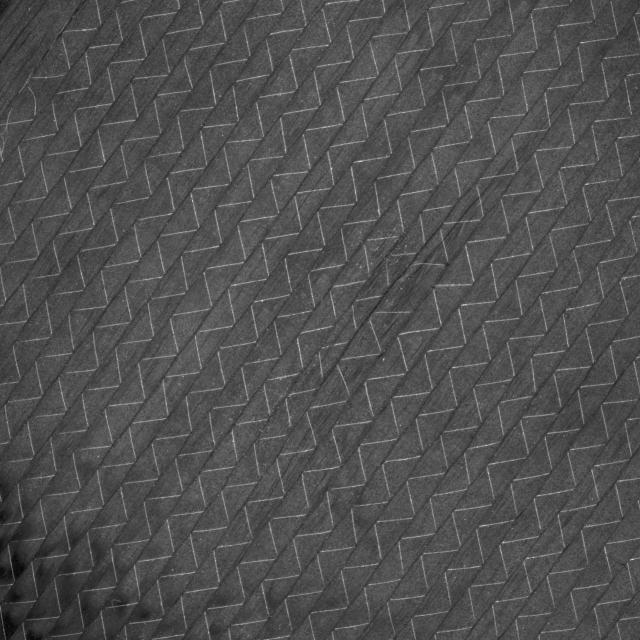carbon-fibre-defect: (306, 123, 541, 408)
